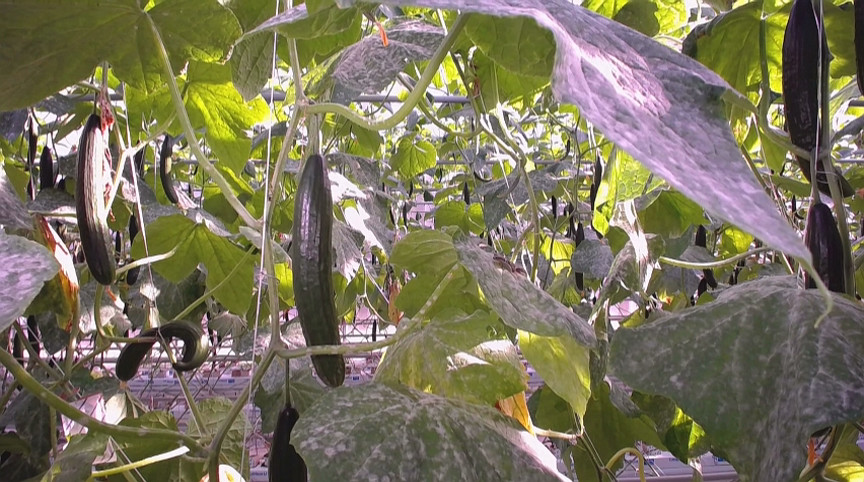cucumber: (783, 1, 856, 198), (291, 152, 347, 386), (73, 111, 120, 290), (113, 321, 208, 382), (265, 409, 307, 482), (158, 136, 183, 203)
